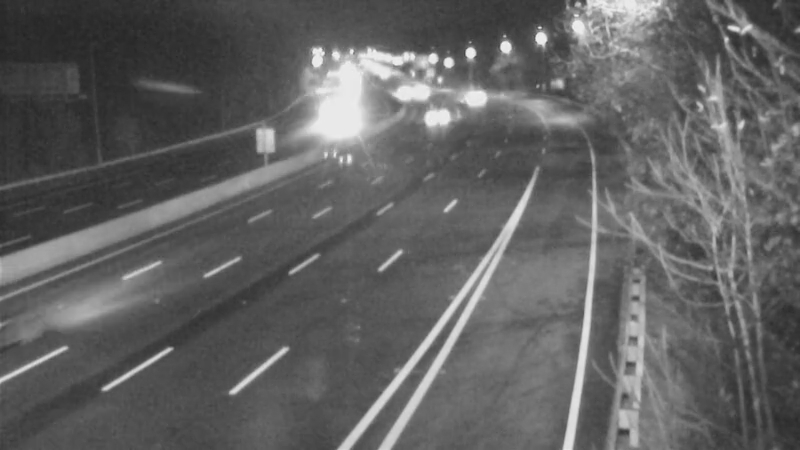vehicle: (400, 67, 450, 117), (379, 68, 429, 118), (450, 75, 500, 125), (413, 89, 463, 139), (294, 108, 344, 158)
